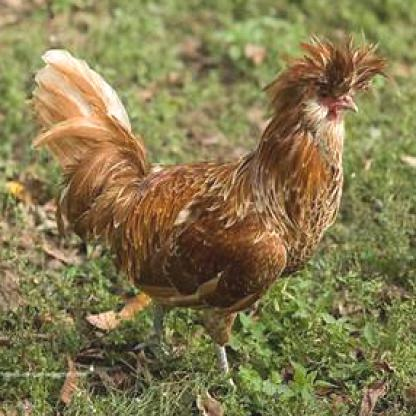chicken: (33, 42, 390, 395)
